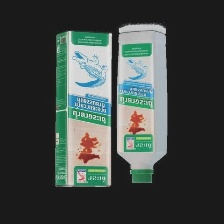book: (52, 28, 115, 189)
cleaning_solution: (114, 21, 169, 185)
